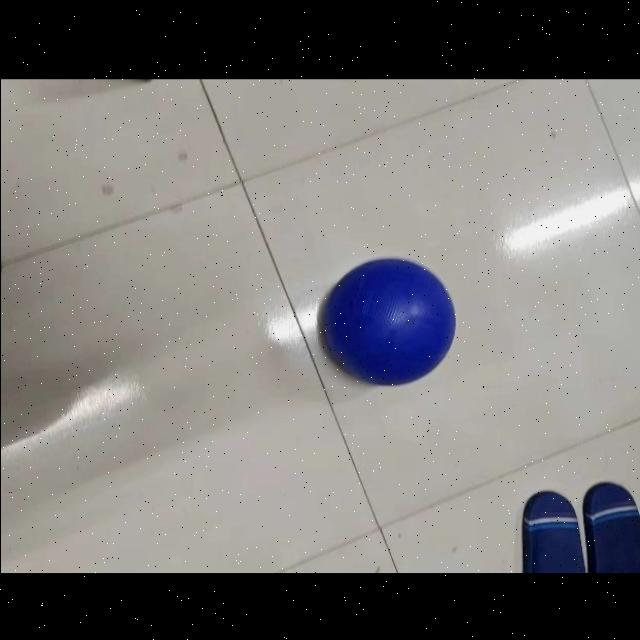B: (322, 254, 462, 396)
